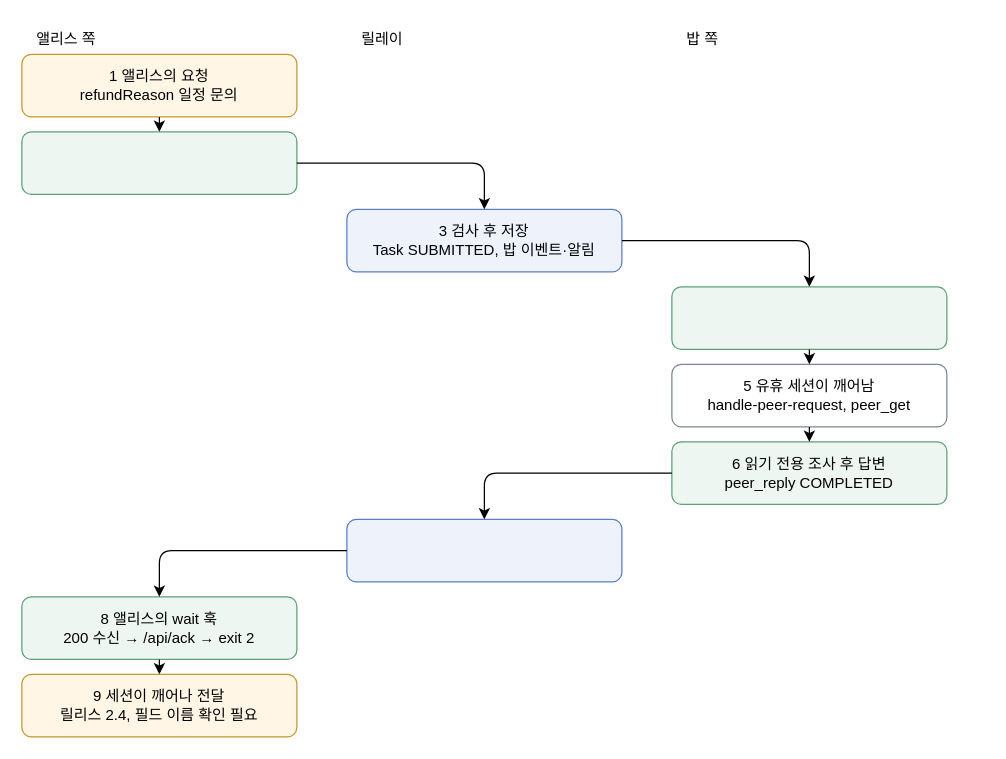
Some shapes in this 1006 by 759 pixel diagram are drawn without their labels. Each missing label, with the centre of its shape:
2 ask-peer → peer_send kind=question, 맥락은 data에: pixel 159 162
4 밥의 wait 훅 200 수신 → /api/ack → exit 2: pixel 809 317
7 앨리스 이벤트 생성 reply, 깨우는 이벤트: pixel 484 550
